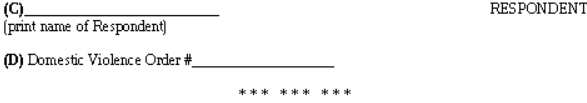textline: (22, 5, 221, 19), (190, 54, 335, 69)
